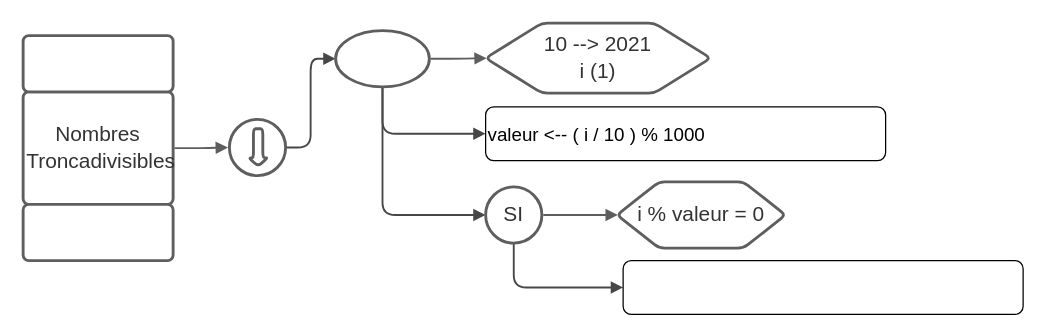
Image size: 1045x336. Some labels were removed from this diagram. Each missing label, with the box of its shape:
Pour: (334, 29, 430, 88)
écrire( i ): (622, 259, 1023, 314)
